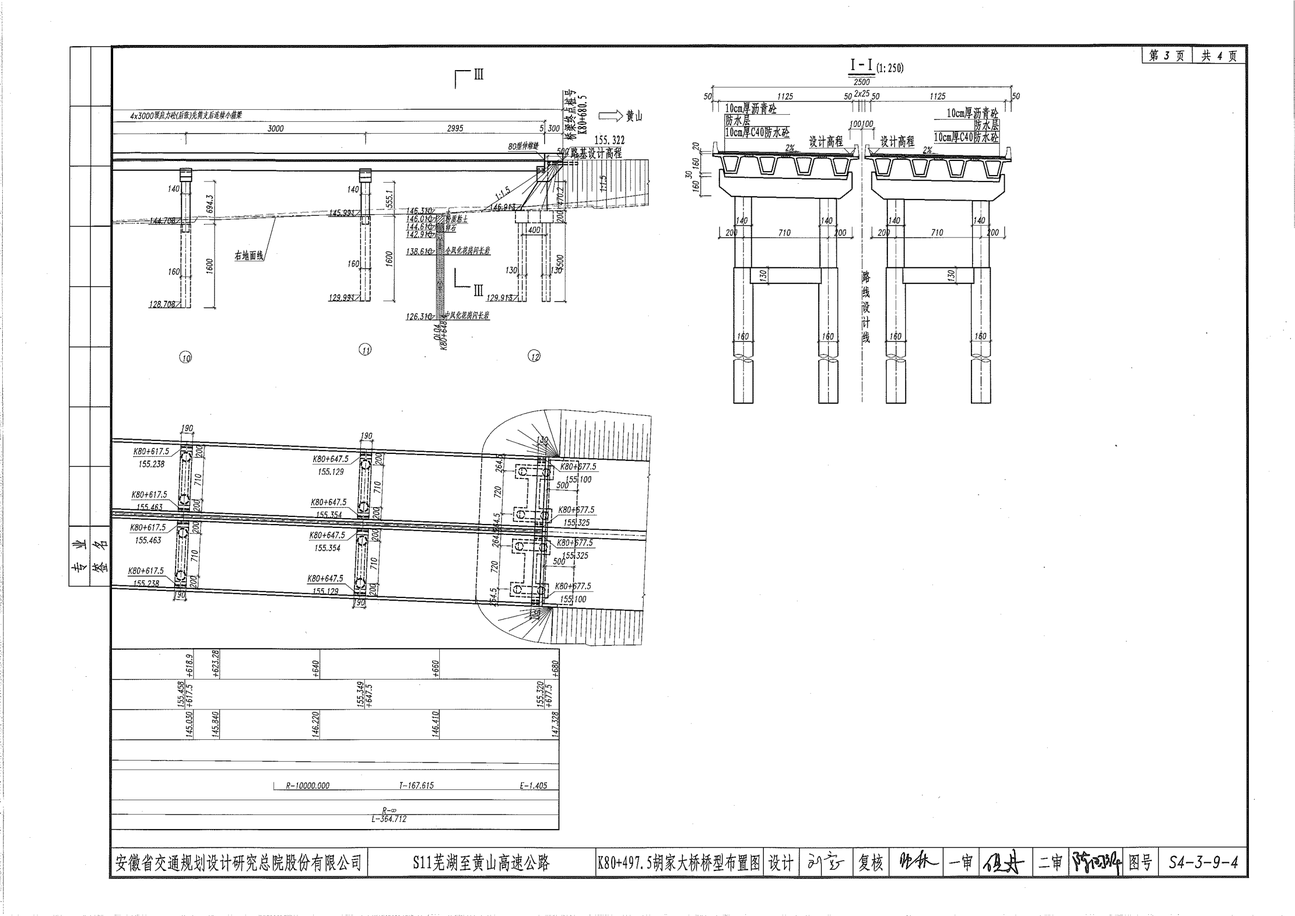A: (107, 65, 662, 373)
